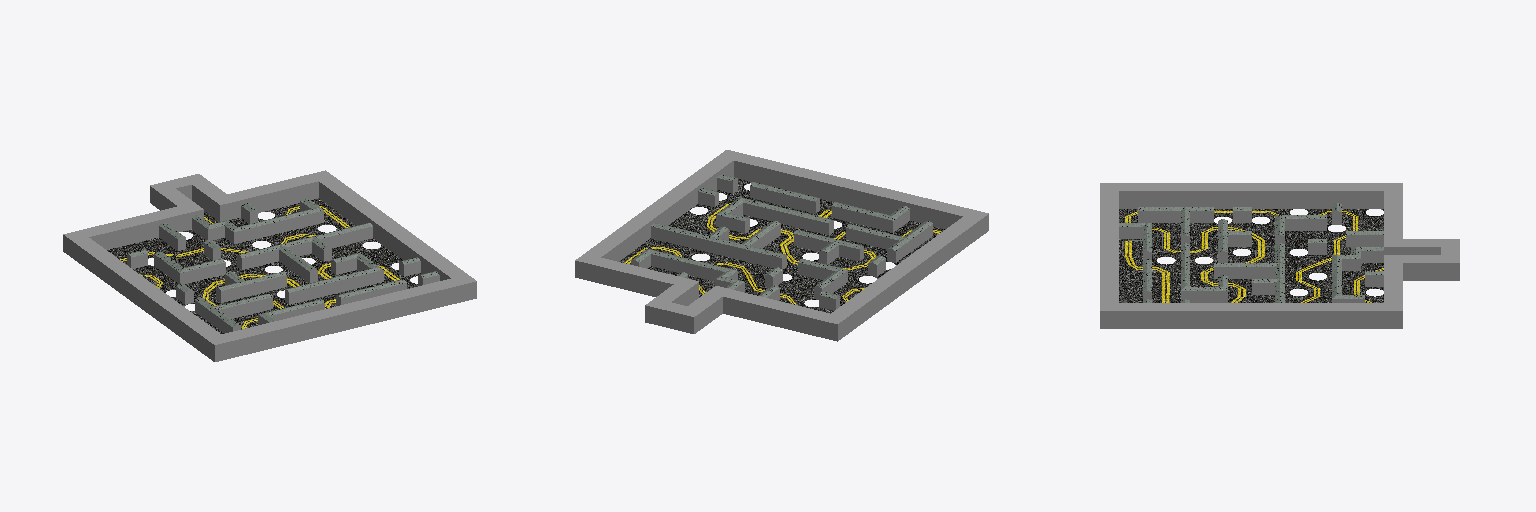
The picture shows the model from 3 angles: view 1: azimuth 30°, elevation 25°; view 2: azimuth 150°, elevation 25°; view 3: azimuth 270°, elevation 25°; orthographic projection.
Visible parts, largest first — view 1: Plane; view 2: Plane; view 3: Plane.
Boxes of the visible parts, x1,y1,x2,y2 form: Plane: [63, 170, 476, 361]; Plane: [575, 150, 988, 341]; Plane: [1100, 183, 1459, 328].
Bounding box in the file's own units: 16 × 1 × 19.
4 materials, 2 textured.